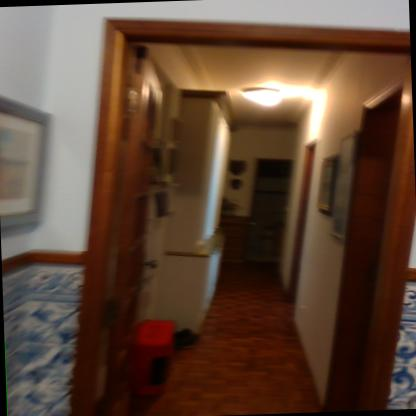open: (51, 3, 416, 416)
